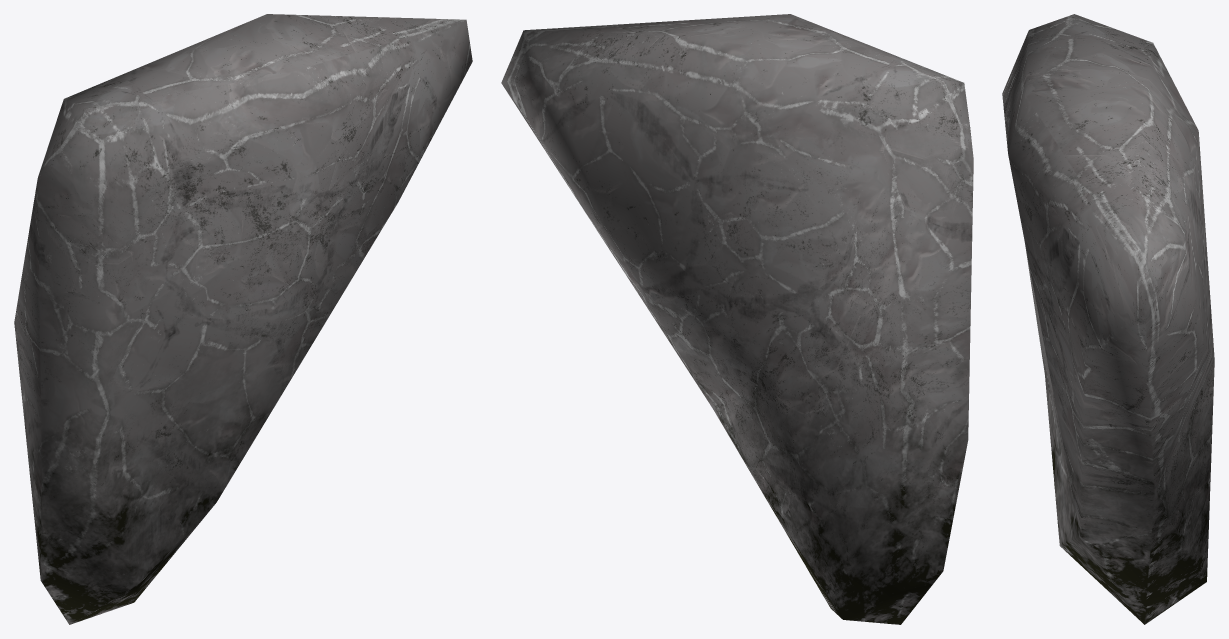
File: cave_rock_002.fbx
3 renders of one model, left to right at view 1: azimuth 30°, elevation 25°; view 2: azimuth 150°, elevation 25°; view 3: azimuth 270°, elevation 25°, orthographic. The views are drawn at different scales.
Parts seen in each view (by area): view 1: cave rock.002_low; view 2: cave rock.002_low; view 3: cave rock.002_low.
Boxes of the visible parts, box(x1,y1,x2,y2) form: cave rock.002_low: box(14, 14, 472, 624); cave rock.002_low: box(501, 14, 973, 624); cave rock.002_low: box(1002, 14, 1214, 624).
Bounding box in the file's own units: 317 × 368 × 120.
